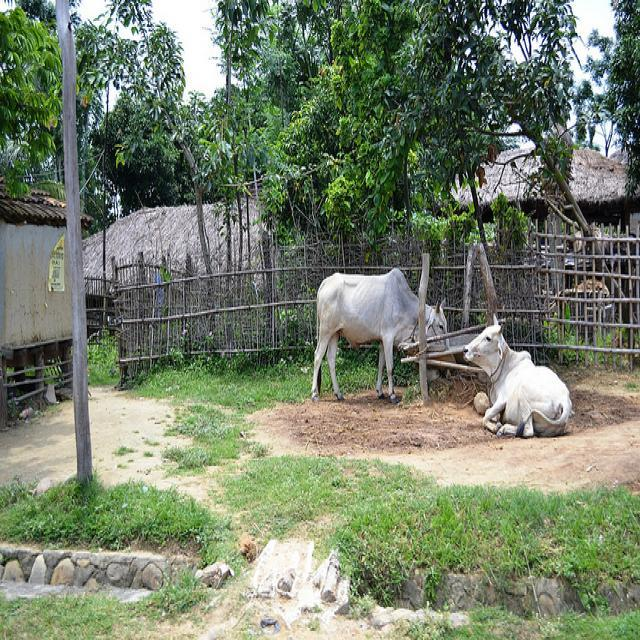cow: (310, 267, 449, 402), (460, 310, 571, 438)
